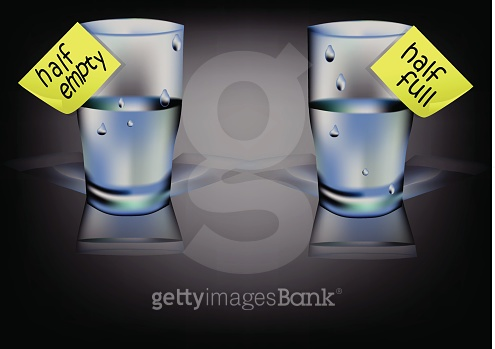glass of water: (62, 14, 191, 220), (304, 11, 417, 220)
